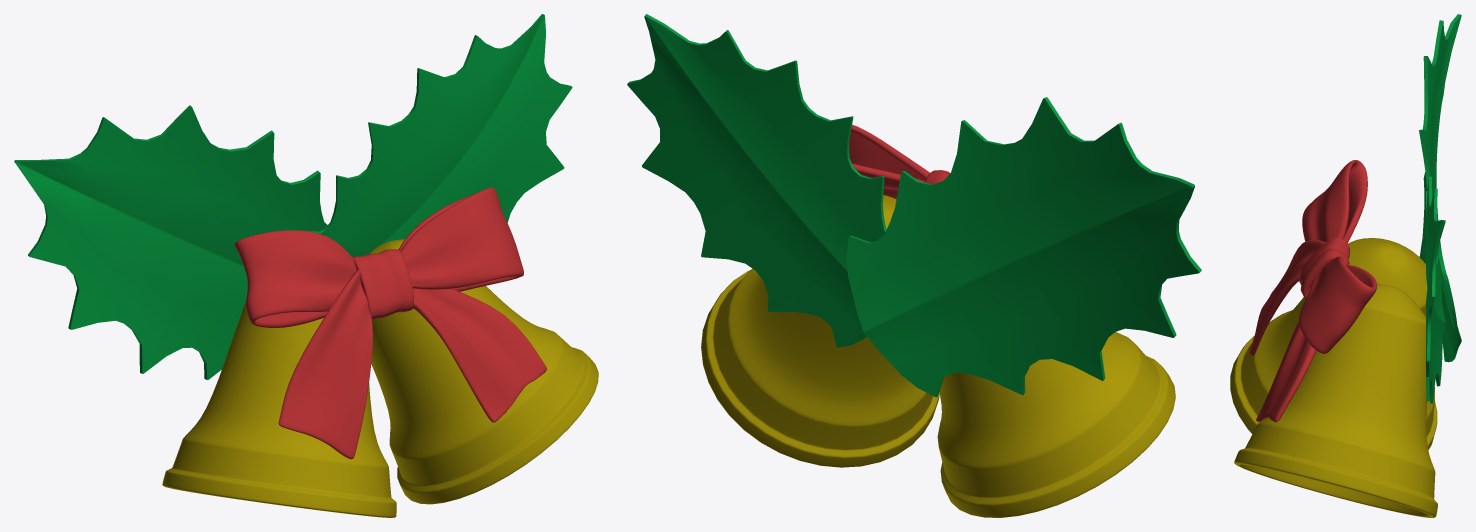
Rendered from bells.fbx.
3 views of the same model, side by side, from view 1: azimuth 30°, elevation 25°; view 2: azimuth 150°, elevation 25°; view 3: azimuth 270°, elevation 25° (orthographic). The views are drawn at different scales.
Visible parts, largest first — view 1: polySurface201, polySurface199, polySurface200, polySurface203, polySurface202, polySurface198; view 2: polySurface201, polySurface200, polySurface202, polySurface203, polySurface199; view 3: polySurface203, polySurface199, polySurface202, polySurface201, polySurface200, polySurface198.
Part boxes in pixels (x1,y1,x2,y2): polySurface201: (14,105,327,379); polySurface199: (234,187,546,459); polySurface200: (310,14,572,257); polySurface203: (368,239,598,504); polySurface202: (162,300,396,517); polySurface198: (353,249,413,318); polySurface201: (846,97,1201,397); polySurface200: (627,14,886,347); polySurface202: (937,332,1175,517); polySurface203: (701,195,939,467); polySurface199: (849,124,930,198); polySurface203: (1234,283,1437,517); polySurface199: (1249,160,1377,422); polySurface202: (1230,238,1437,449); polySurface201: (1419,14,1461,362); polySurface200: (1426,176,1445,403); polySurface198: (1299,237,1350,299).
Bounding box in the file's own units: 74.33 × 53.99 × 30.3.
